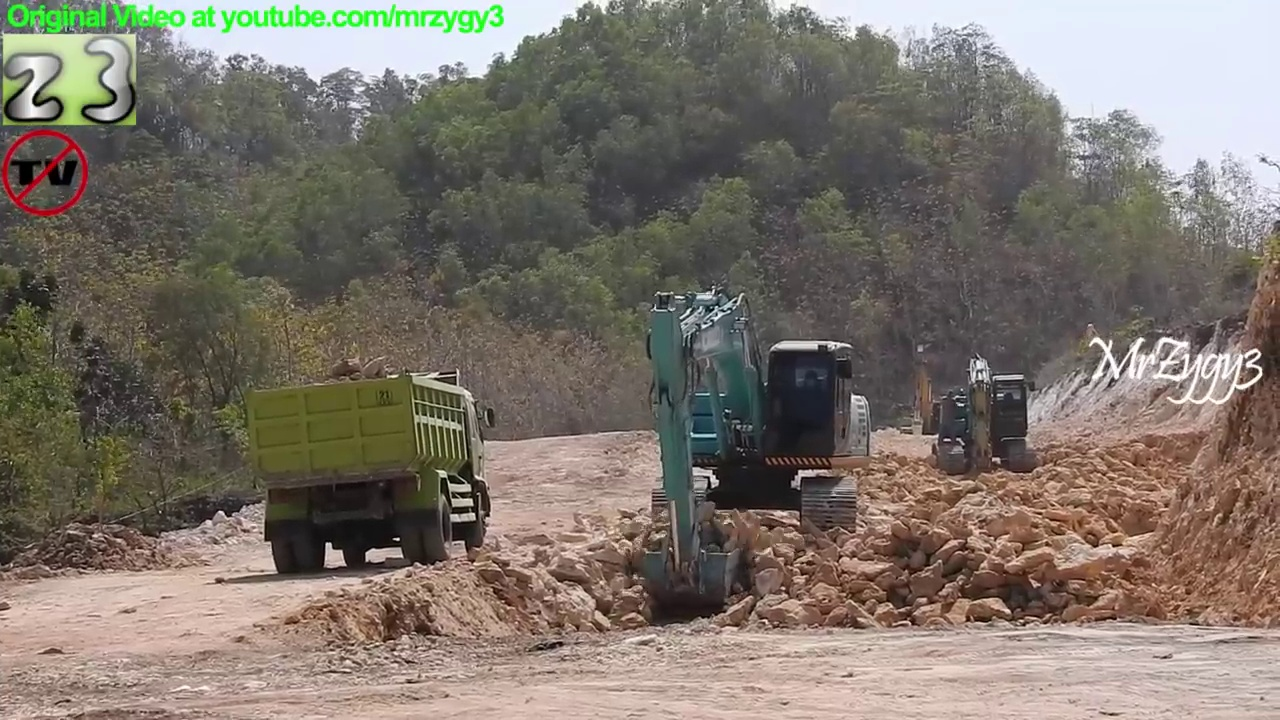excavator: (634, 276, 878, 617), (892, 338, 958, 437)
excavator breaker: (933, 348, 1040, 482)
truck: (241, 364, 502, 581)
